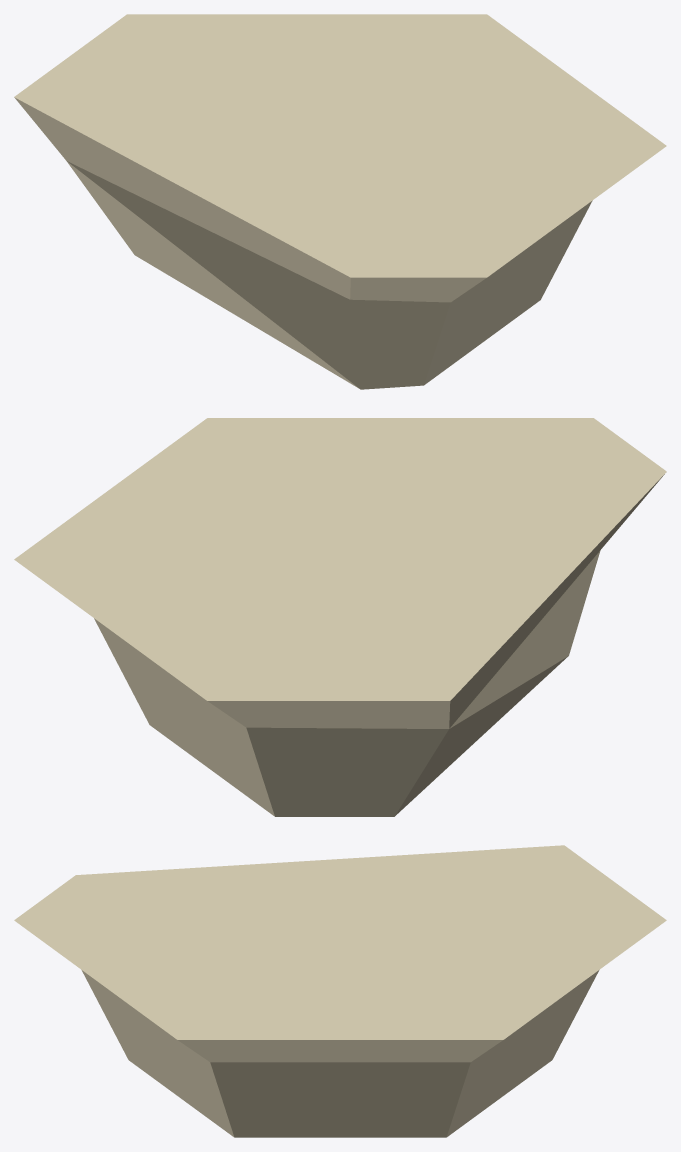
Rendered from Destroy_Pillar_0.fbx.
The picture shows the model from 3 angles, top to bottom: view 1: azimuth 30°, elevation 25°; view 2: azimuth 150°, elevation 25°; view 3: azimuth 270°, elevation 25°; orthographic projection. The views are drawn at different scales.
Visible parts, largest first — view 1: Destroy_Pillar_0; view 2: Destroy_Pillar_0; view 3: Destroy_Pillar_0.
Part boxes in pixels (<box>): Destroy_Pillar_0: <box>14,14,666,389</box>; Destroy_Pillar_0: <box>14,418,666,816</box>; Destroy_Pillar_0: <box>14,845,666,1137</box>.
Size of the model in its own units: 269 by 90 by 381.
